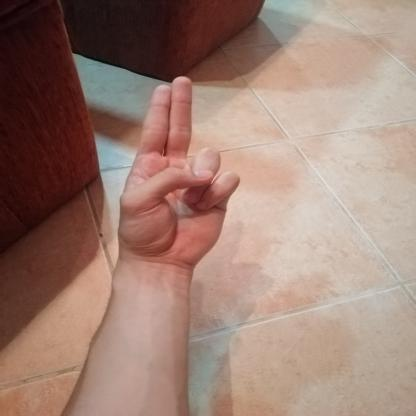TA: (99, 66, 254, 279)
